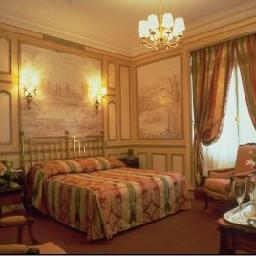Cama: (39, 150, 187, 236)
